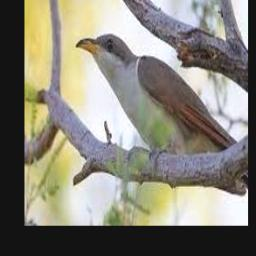Cuckoo: (77, 33, 239, 160)
